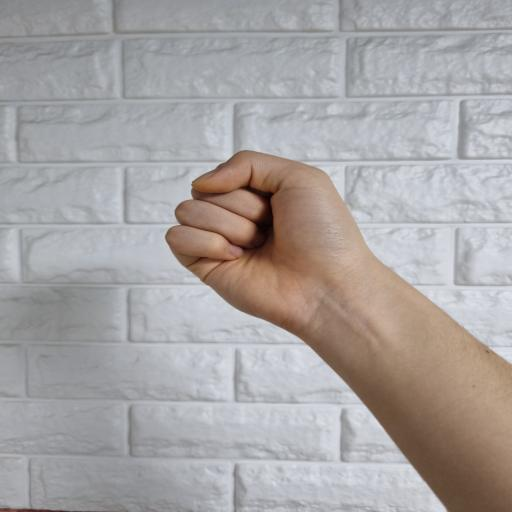Rock: (166, 151, 371, 332)
